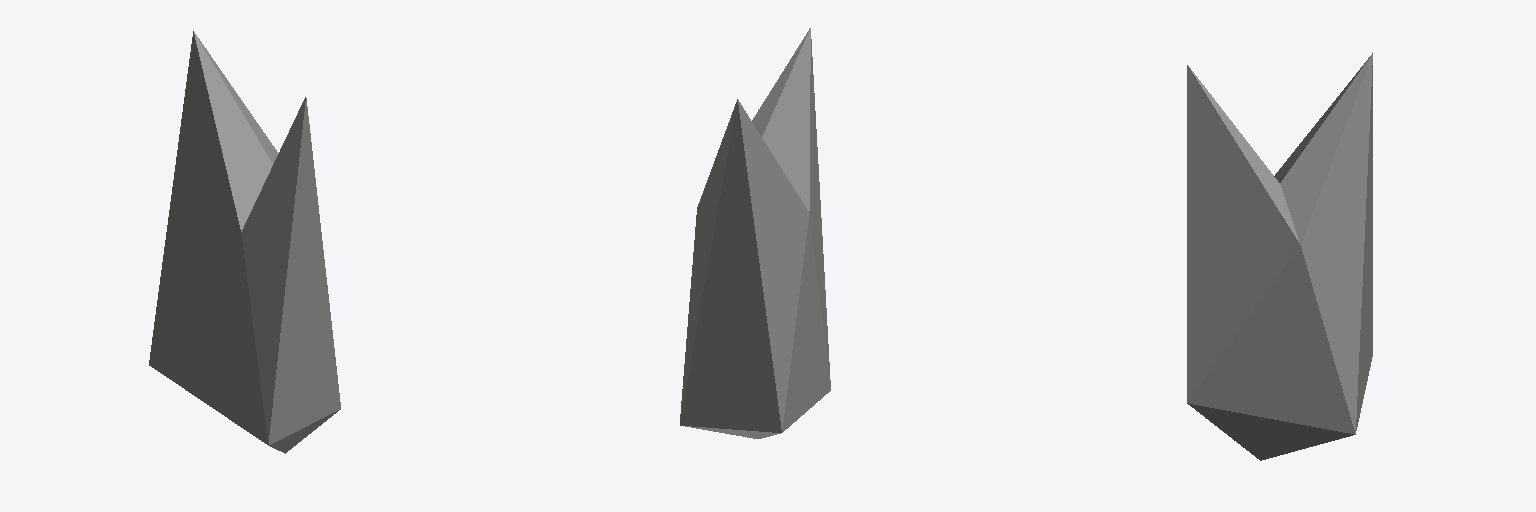
Rendered from shard.obj.
3 views of the same model, side by side, from view 1: azimuth 30°, elevation 25°; view 2: azimuth 150°, elevation 25°; view 3: azimuth 270°, elevation 25° (orthographic).
Visible parts, largest first — view 1: Cube; view 2: Cube; view 3: Cube.
Boxes of the visible parts, x1=… form: Cube: x1=149, y1=31, x2=340, y2=453; Cube: x1=680, y1=28, x2=830, y2=438; Cube: x1=1187, y1=53, x2=1372, y2=460.
Bounding box in the file's own units: 0.2885 × 0.8879 × 0.3834.